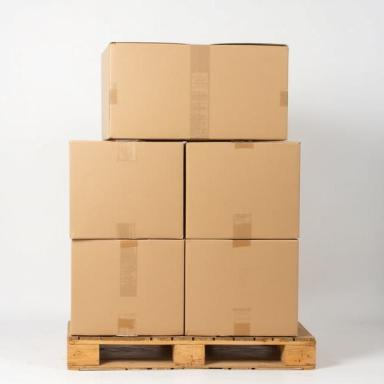pallet: (67, 320, 316, 371), (100, 344, 172, 367), (205, 345, 281, 360)
